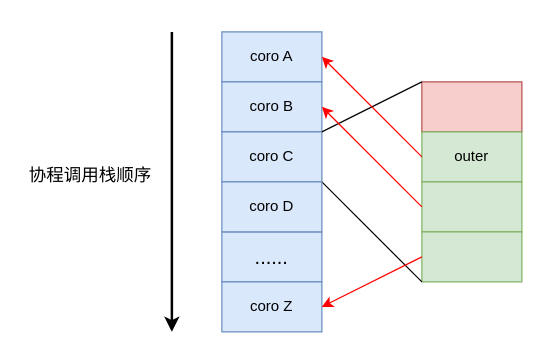
Some shapes in this 544 by 364 pixel diagram are drawn without their labels. The centre of each missing label's shape, as x and y in pixels:
current: (471,256)
parent: (471,206)
promise: (471,106)
